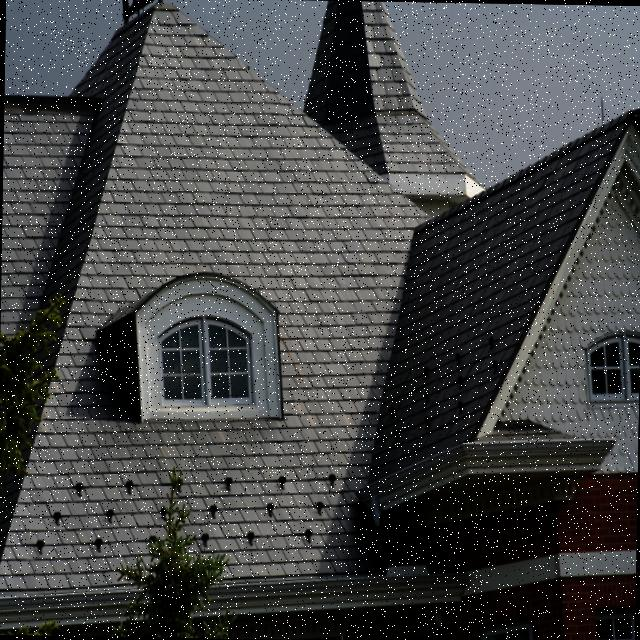bird: (104, 508, 114, 524), (74, 482, 84, 498), (209, 502, 217, 518), (94, 536, 102, 552)
